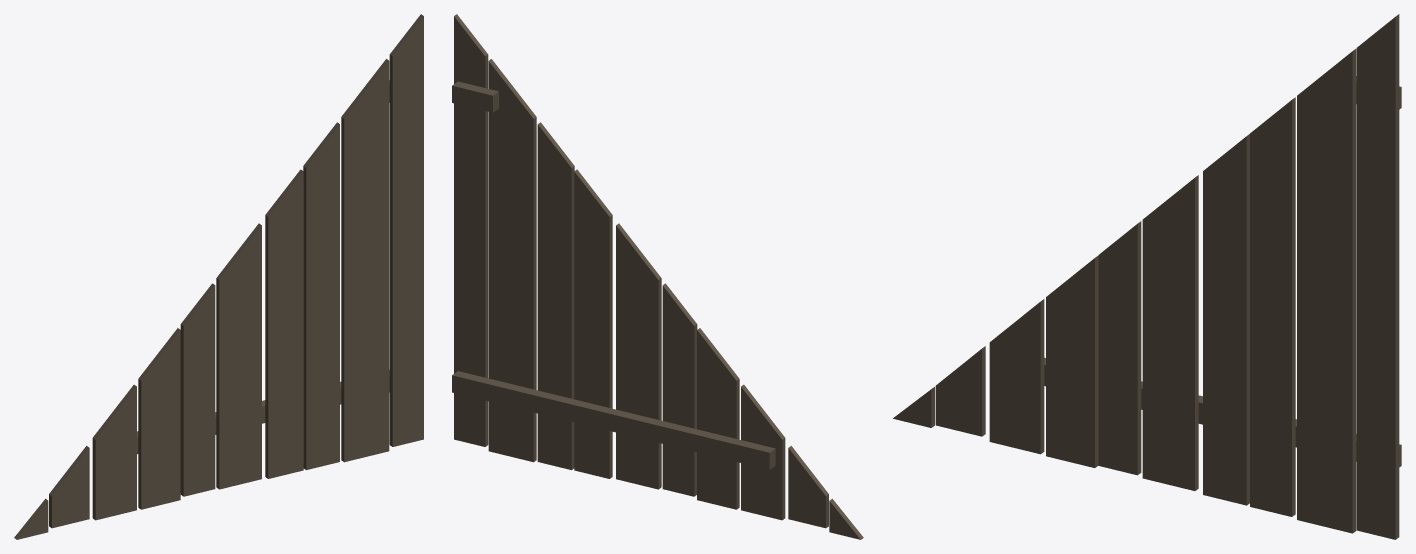
The model's file is bretter_dreieck.glb.
3 renders of one model, left to right at view 1: azimuth 30°, elevation 25°; view 2: azimuth 150°, elevation 25°; view 3: azimuth 330°, elevation 25°, orthographic. The views are drawn at different scales.
Parts seen in each view (by area): view 1: bretter_dreieck; view 2: bretter_dreieck; view 3: bretter_dreieck.
Part boxes in pixels (box(x1,y1,x2,y2)): bretter_dreieck: box(14, 14, 423, 539); bretter_dreieck: box(452, 14, 863, 539); bretter_dreieck: box(893, 14, 1401, 539).
Bounding box in the file's own units: 1.99 × 1.99 × 0.075.
